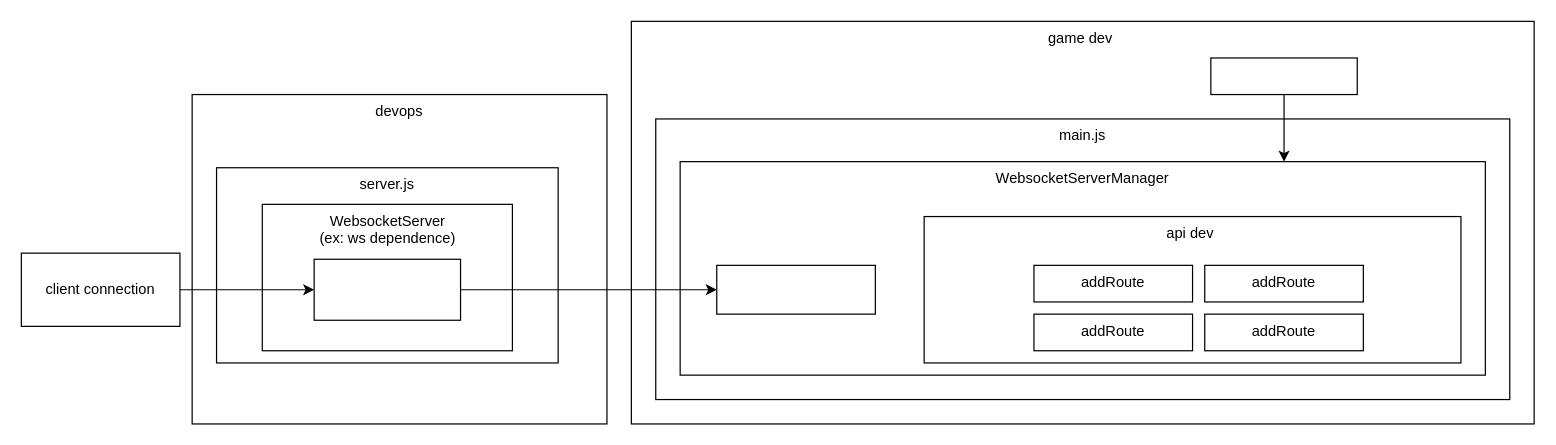
Image size: 1556x445. Some labels were removed from this diagram. The centre of each missing label's shape, as x and y in pixels:
AppData.js: the point at 1283,76
handleUpgrade: the point at 387,289
onConnection: the point at 795,289
